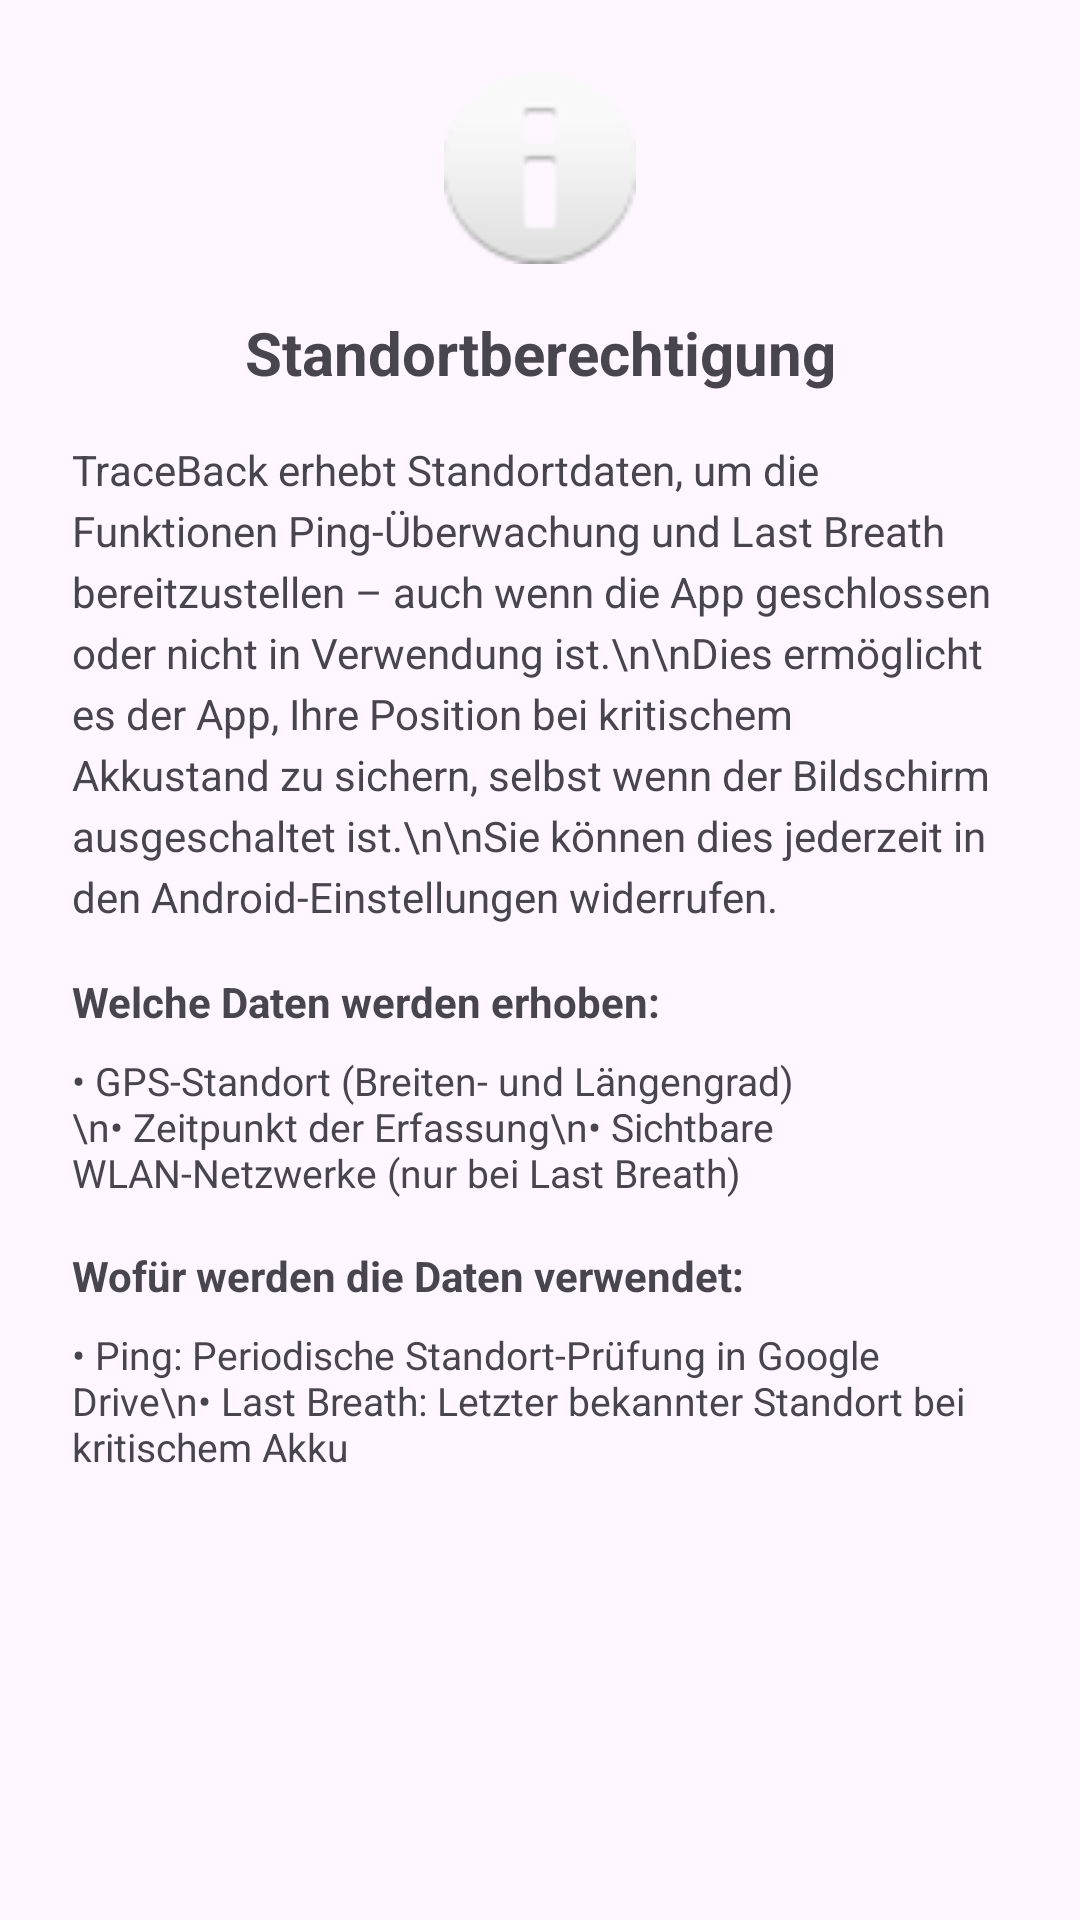

Screen size 1080*1920. Icon name, then its box in pixels as box(x1, y1, x2, y2):
info: box(444, 107, 636, 264)
